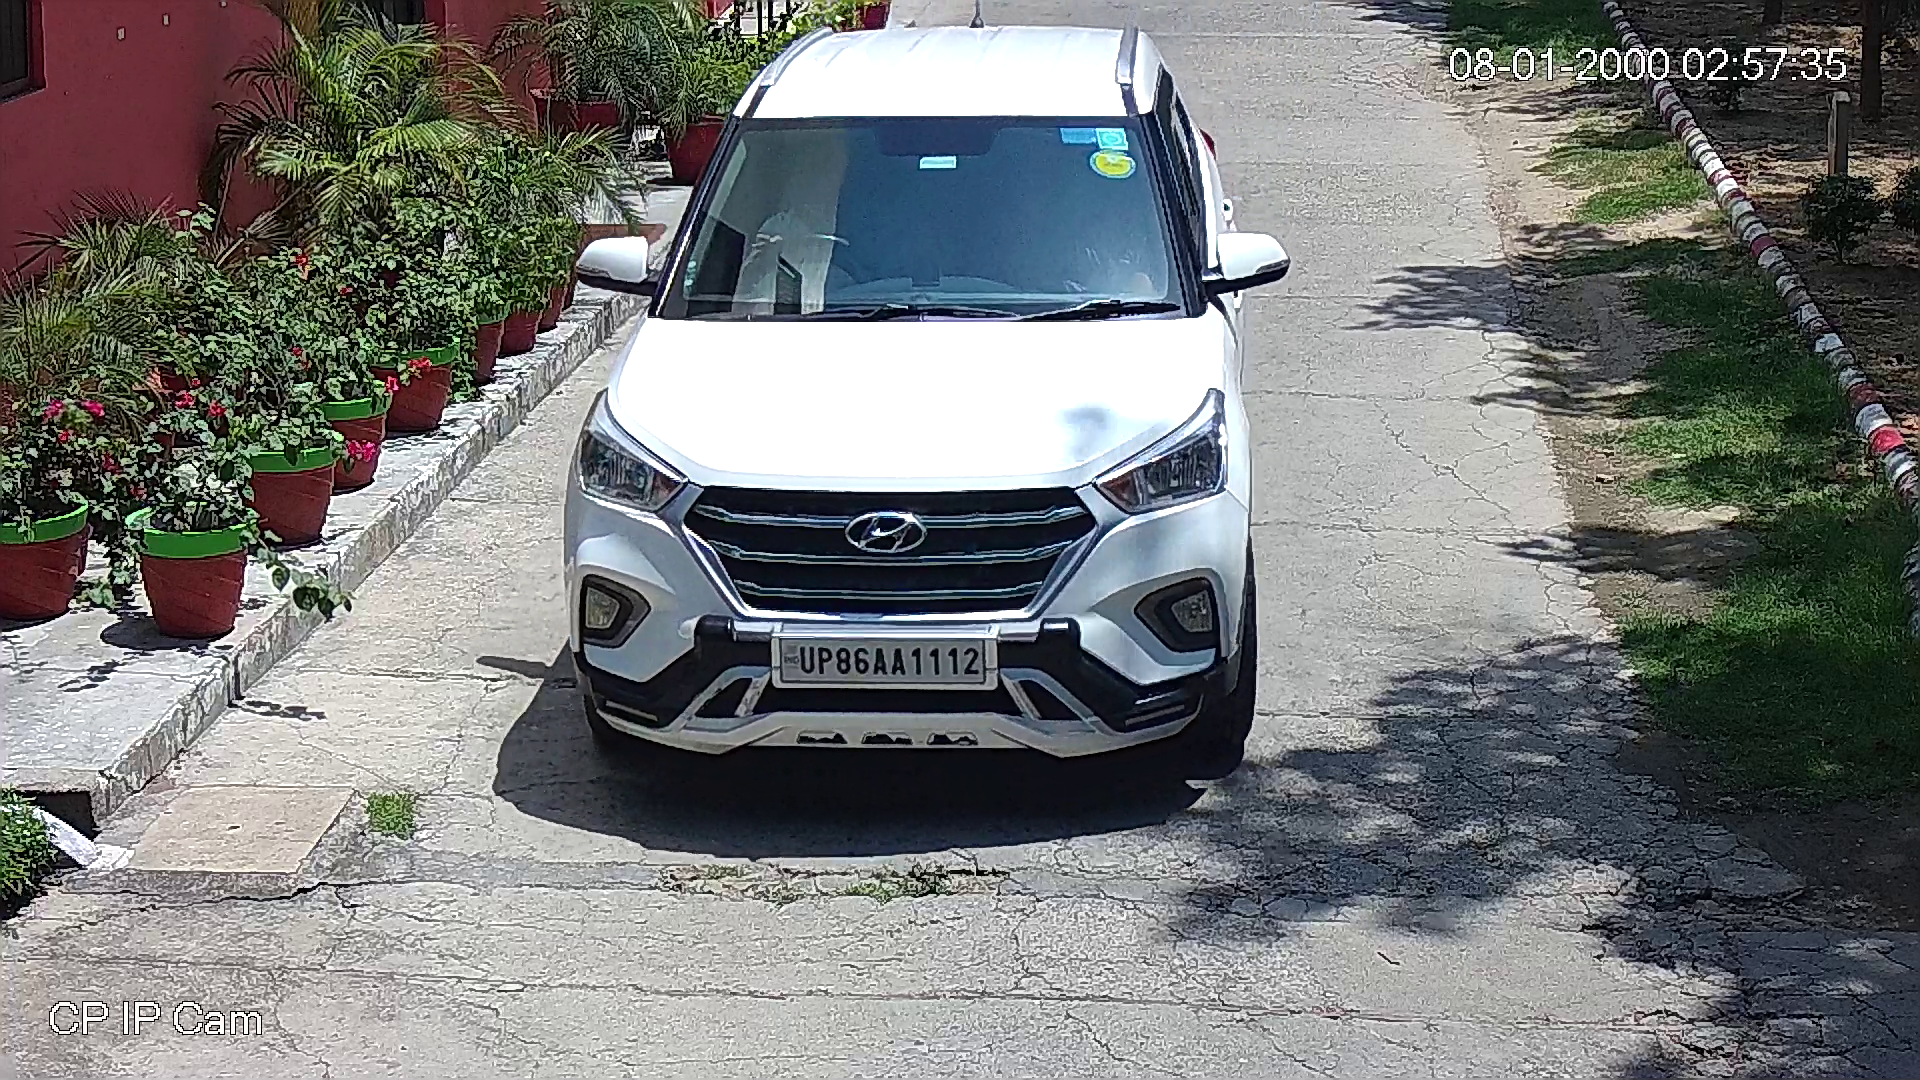plate: (778, 635, 986, 685)
